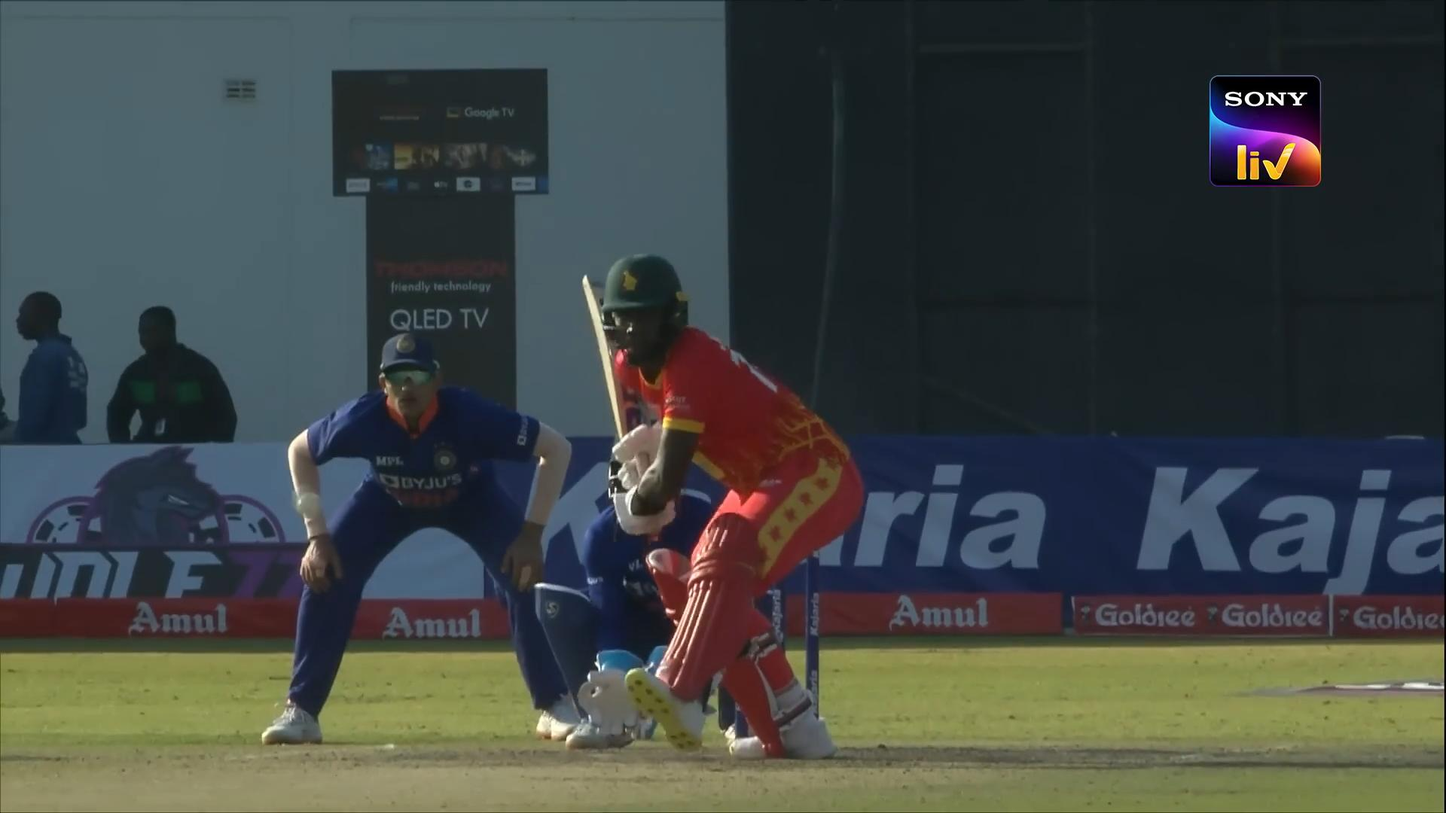batsman: (581, 253, 864, 759)
